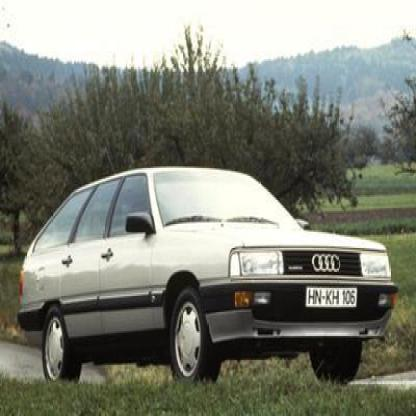car: (18, 168, 400, 389)
